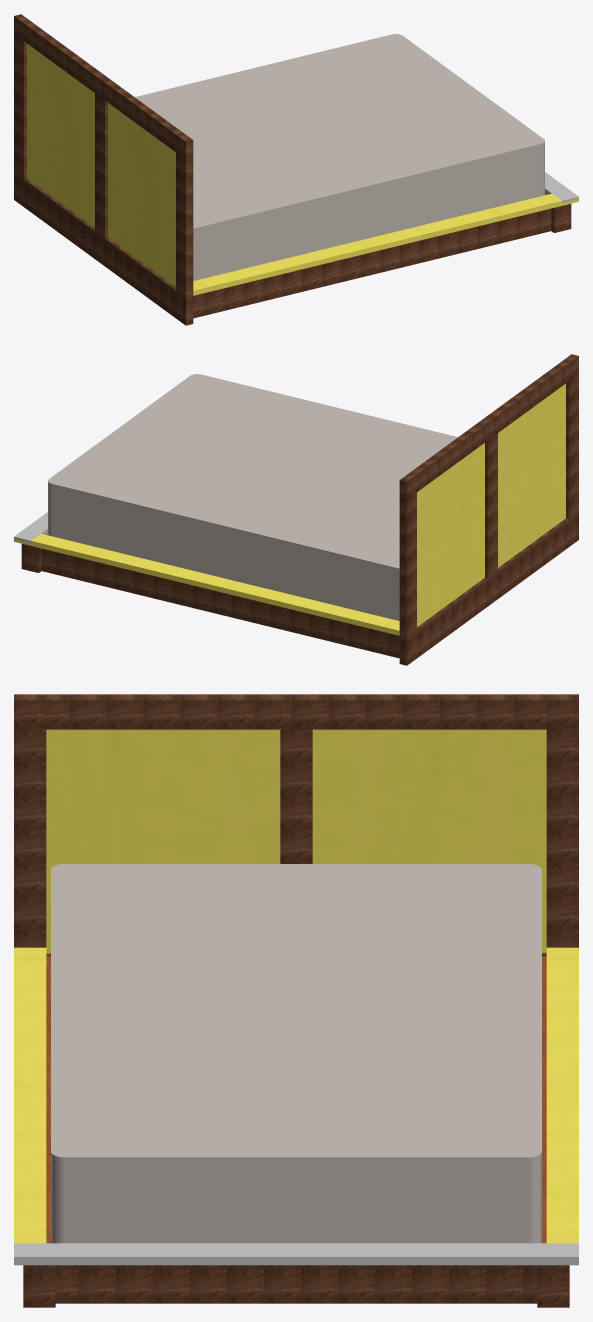
3 renders of one model, top to bottom at view 1: azimuth 30°, elevation 25°; view 2: azimuth 150°, elevation 25°; view 3: azimuth 270°, elevation 25°, orthographic. The views are drawn at different scales.
Visible parts, largest first — view 1: mesh5.001_mesh5-geometry, mesh17.001_mesh17-geometry, mesh18.001_mesh18-geometry, mesh4.001_mesh4-geometry, mesh10.001_mesh10-geometry, mesh12.001_mesh12-geometry, mesh16.001_mesh16-geometry, mesh14.001_mesh14-geometry, mesh13.001_mesh13-geometry, mesh15.001_mesh15-geometry, mesh1.001_mesh1-geometry, mesh9.001_mesh9-geometry; view 2: mesh5.001_mesh5-geometry, mesh18.001_mesh18-geometry, mesh17.001_mesh17-geometry, mesh3.001_mesh3-geometry, mesh11.001_mesh11-geometry, mesh12.001_mesh12-geometry, mesh16.001_mesh16-geometry, mesh13.001_mesh13-geometry, mesh14.001_mesh14-geometry, mesh15.001_mesh15-geometry, mesh1.002_mesh1-geometry, mesh9.001_mesh9-geometry; view 3: mesh5.001_mesh5-geometry, mesh18.001_mesh18-geometry, mesh17.001_mesh17-geometry, mesh2.001_mesh2-geometry, mesh16.001_mesh16-geometry, mesh9.001_mesh9-geometry, mesh11.001_mesh11-geometry, mesh10.001_mesh10-geometry, mesh14.001_mesh14-geometry, mesh13.001_mesh13-geometry, mesh15.001_mesh15-geometry, mesh8.002_mesh8-geometry (+3 smaller).
Boxes of the visible parts, x1=… form: mesh5.001_mesh5-geometry: x1=135, y1=34, x2=544, y2=280; mesh17.001_mesh17-geometry: x1=27, y1=43, x2=94, y2=227; mesh18.001_mesh18-geometry: x1=108, y1=103, x2=175, y2=286; mesh4.001_mesh4-geometry: x1=193, y1=208, x2=551, y2=318; mesh10.001_mesh10-geometry: x1=193, y1=193, x2=578, y2=295; mesh12.001_mesh12-geometry: x1=14, y1=172, x2=193, y2=325; mesh16.001_mesh16-geometry: x1=24, y1=21, x2=182, y2=151; mesh14.001_mesh14-geometry: x1=176, y1=133, x2=193, y2=297; mesh13.001_mesh13-geometry: x1=14, y1=14, x2=30, y2=178; mesh15.001_mesh15-geometry: x1=95, y1=93, x2=107, y2=238; mesh1.001_mesh1-geometry: x1=551, y1=204, x2=571, y2=232; mesh9.001_mesh9-geometry: x1=545, y1=172, x2=578, y2=203; mesh5.001_mesh5-geometry: x1=48, y1=374, x2=457, y2=620; mesh18.001_mesh18-geometry: x1=498, y1=383, x2=565, y2=567; mesh17.001_mesh17-geometry: x1=417, y1=443, x2=484, y2=626; mesh3.001_mesh3-geometry: x1=41, y1=548, x2=399, y2=658; mesh11.001_mesh11-geometry: x1=14, y1=533, x2=399, y2=635; mesh12.001_mesh12-geometry: x1=399, y1=512, x2=578, y2=665; mesh16.001_mesh16-geometry: x1=410, y1=361, x2=568, y2=491; mesh13.001_mesh13-geometry: x1=399, y1=473, x2=416, y2=637; mesh14.001_mesh14-geometry: x1=562, y1=354, x2=578, y2=518; mesh15.001_mesh15-geometry: x1=485, y1=433, x2=497, y2=578; mesh1.002_mesh1-geometry: x1=21, y1=544, x2=41, y2=572; mesh9.001_mesh9-geometry: x1=14, y1=512, x2=47, y2=543; mesh5.001_mesh5-geometry: x1=51, y1=864, x2=541, y2=1243; mesh18.001_mesh18-geometry: x1=46, y1=729, x2=280, y2=953; mesh17.001_mesh17-geometry: x1=312, y1=729, x2=546, y2=953; mesh2.001_mesh2-geometry: x1=55, y1=1265, x2=537, y2=1303; mesh16.001_mesh16-geometry: x1=46, y1=694, x2=546, y2=729; mesh9.001_mesh9-geometry: x1=14, y1=1243, x2=578, y2=1265; mesh11.001_mesh11-geometry: x1=546, y1=947, x2=578, y2=1243; mesh10.001_mesh10-geometry: x1=14, y1=947, x2=46, y2=1243; mesh14.001_mesh14-geometry: x1=14, y1=694, x2=46, y2=947; mesh13.001_mesh13-geometry: x1=546, y1=694, x2=578, y2=947; mesh15.001_mesh15-geometry: x1=280, y1=729, x2=312, y2=863; mesh8.002_mesh8-geometry: x1=542, y1=956, x2=546, y2=1243.
Size of the model in its own units: 0.7508 by 0.3357 by 0.5689.
